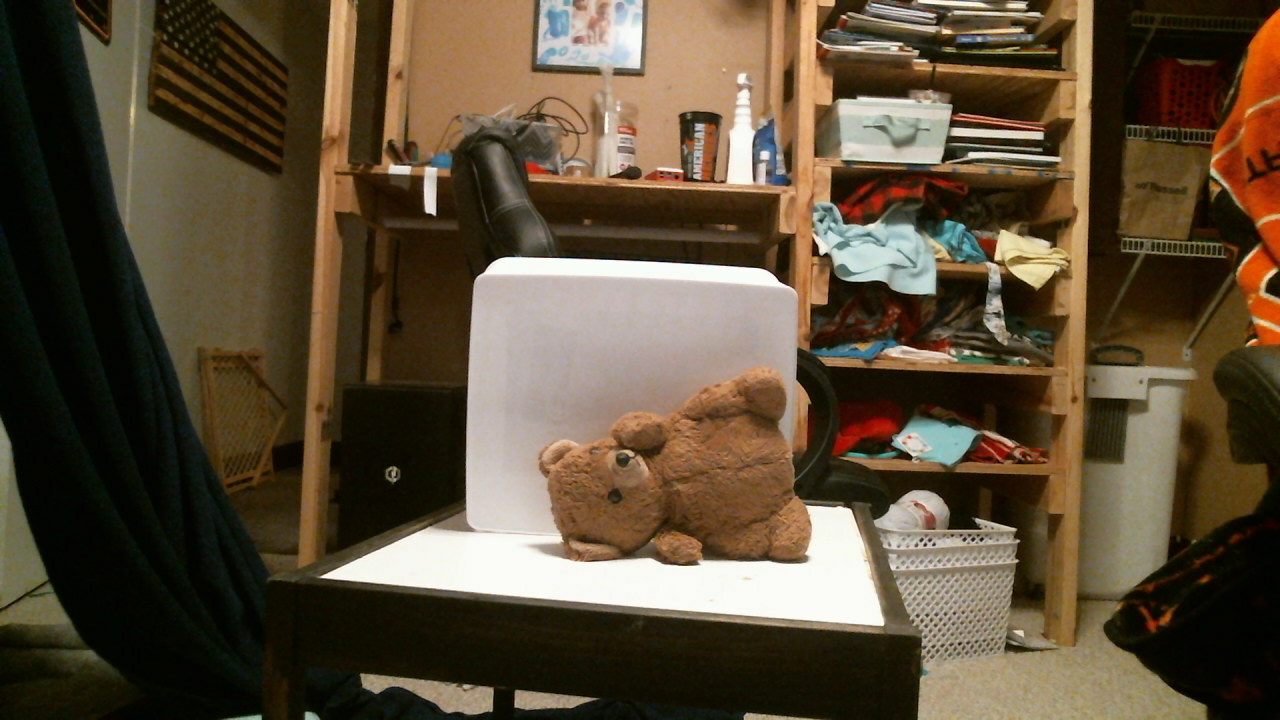Little_Mister_Bear: (591, 454, 666, 514)
